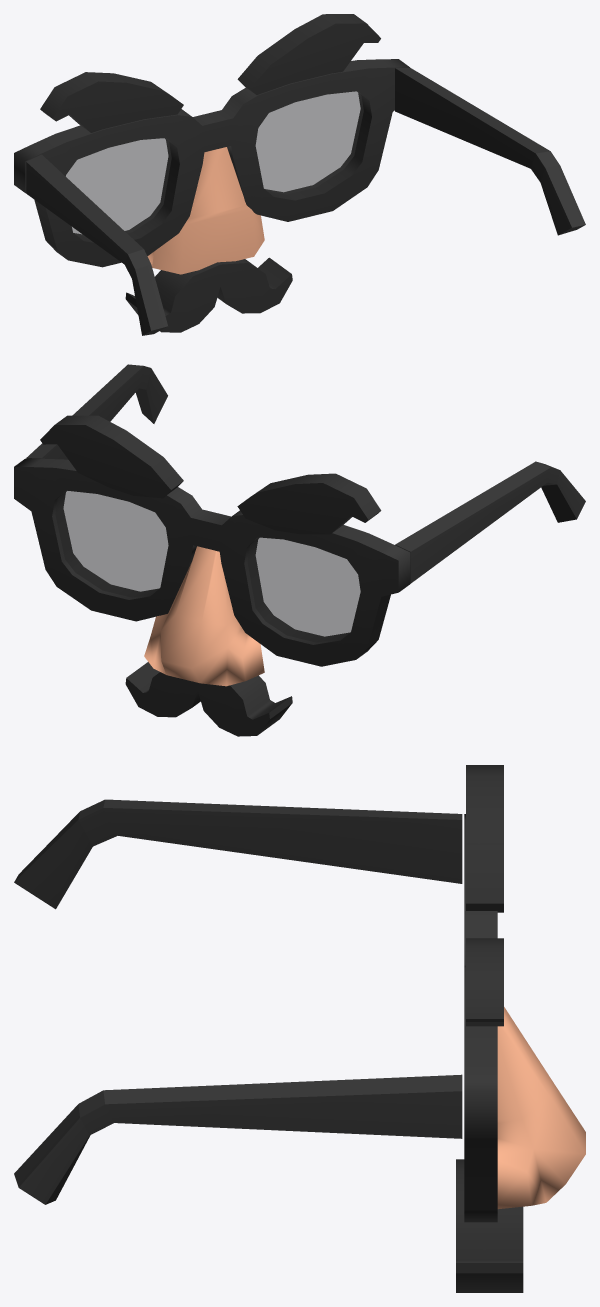
File: Eyewear_4.fbx
3 views of the same model, one above another, from view 1: azimuth 30°, elevation 25°; view 2: azimuth 150°, elevation 25°; view 3: azimuth 270°, elevation 25° (orthographic). The views are drawn at different scales.
Visible parts, largest first — view 1: Eyewear_4; view 2: Eyewear_4; view 3: Eyewear_4.
Part boxes in pixels (x1,y1,x2,y2): Eyewear_4: (14, 14, 585, 335); Eyewear_4: (14, 364, 585, 736); Eyewear_4: (14, 765, 585, 1292).
Bounding box in the file's own units: 71.62 × 42.18 × 55.23.
